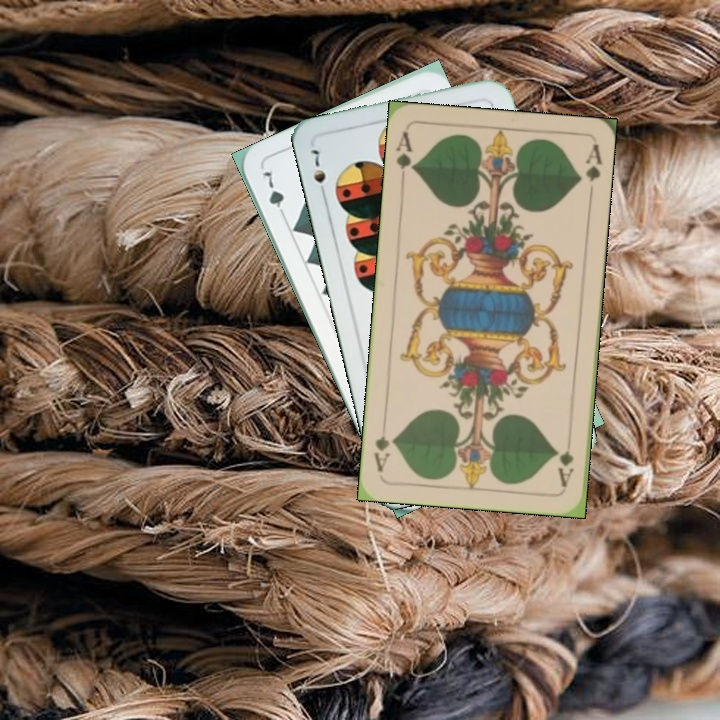G7: (258, 167, 289, 221)
GA: (392, 127, 418, 186), (553, 431, 576, 490)
S7: (306, 145, 329, 201)
